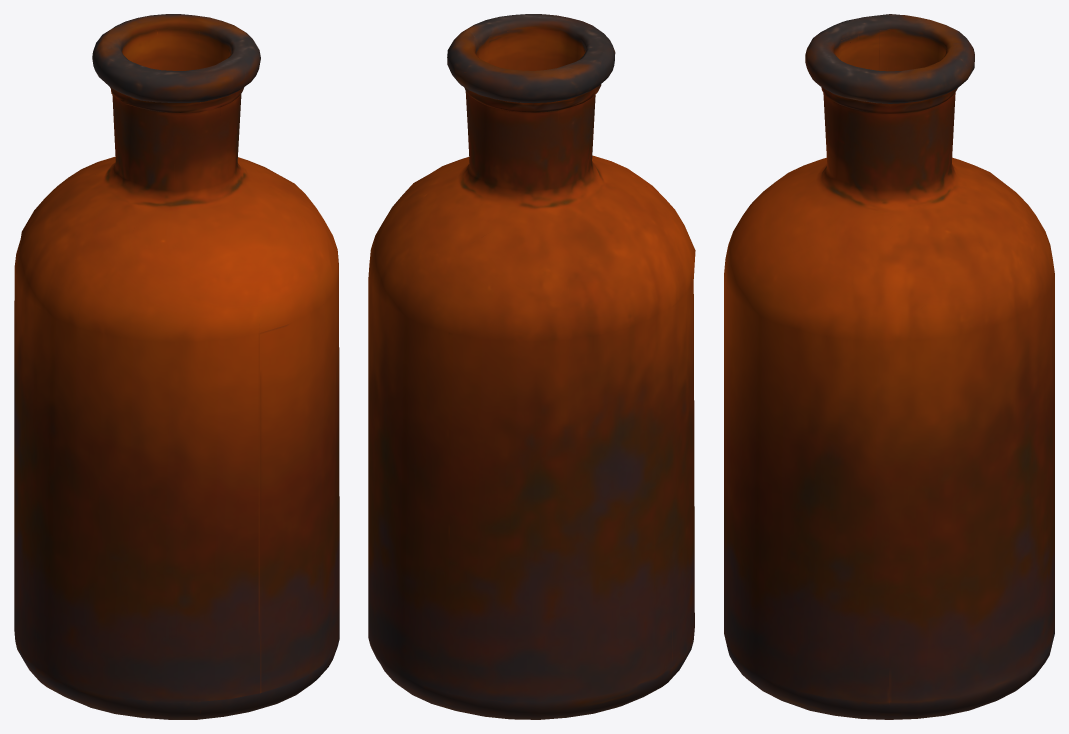
File: AmberBottle_low.fbx
3 views of the same model, side by side, from view 1: azimuth 30°, elevation 25°; view 2: azimuth 150°, elevation 25°; view 3: azimuth 270°, elevation 25° (orthographic).
Visible parts, largest first — view 1: AmberBottle_low; view 2: AmberBottle_low; view 3: AmberBottle_low.
Boxes of the visible parts, x1,y1,x2,y2 form: AmberBottle_low: (14, 14, 339, 719); AmberBottle_low: (368, 14, 695, 719); AmberBottle_low: (724, 14, 1054, 719).
Size of the model in its own units: 45.36 by 95.07 by 46.19.
